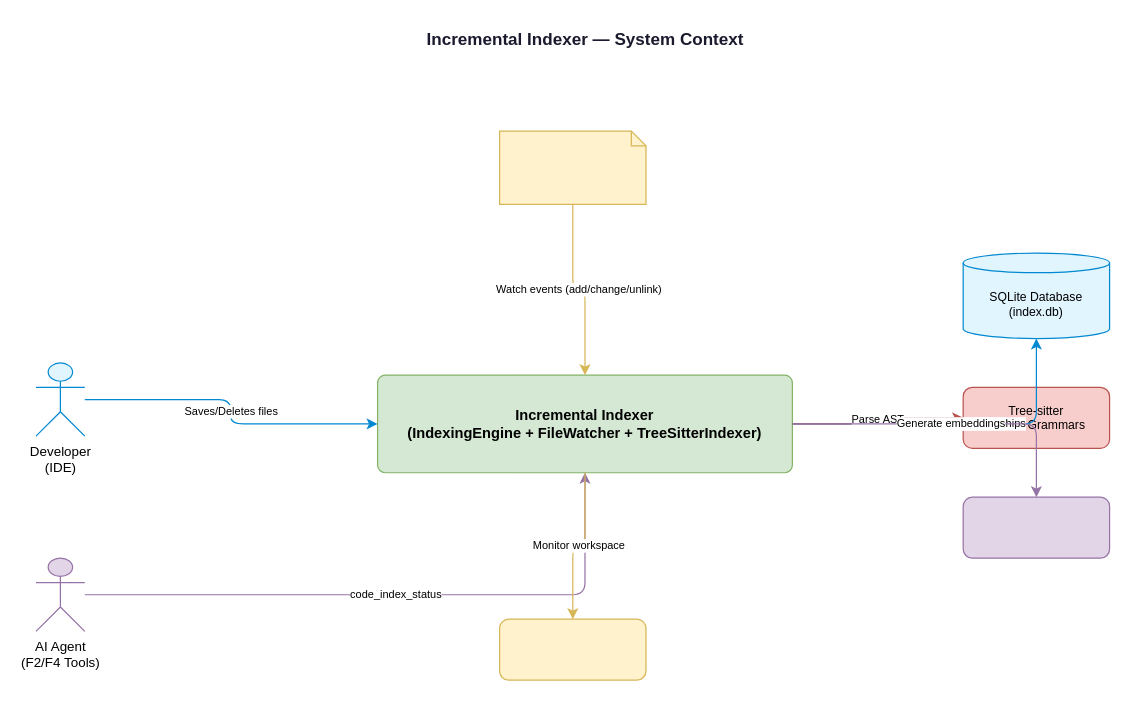
This 1131x702 diagram has some shape labels left out. The shapes that lost their labels are listed below. From the top down, each one's centre as x and y in pixels, then its label:
At pixel 572 167: "File System (Workspace)".
At pixel 1036 527: "ONNX Runtime (MiniLM-L12-v2)".
At pixel 572 649: "chokidar (File Watcher)".
